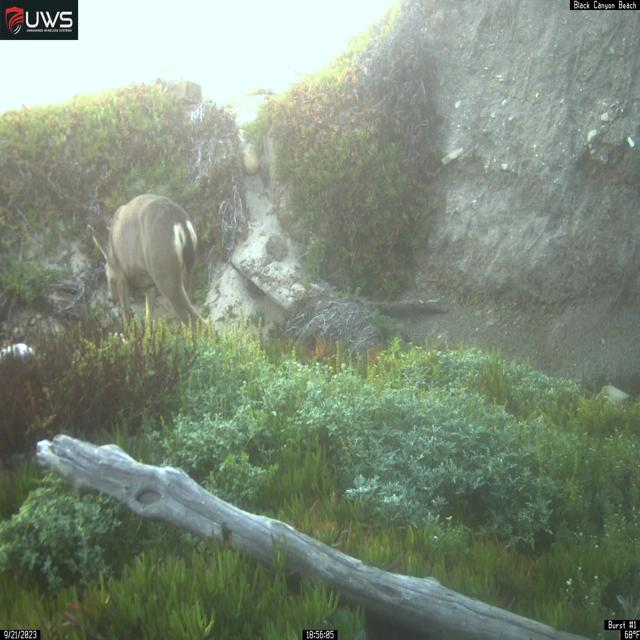deer: (87, 193, 211, 356)
